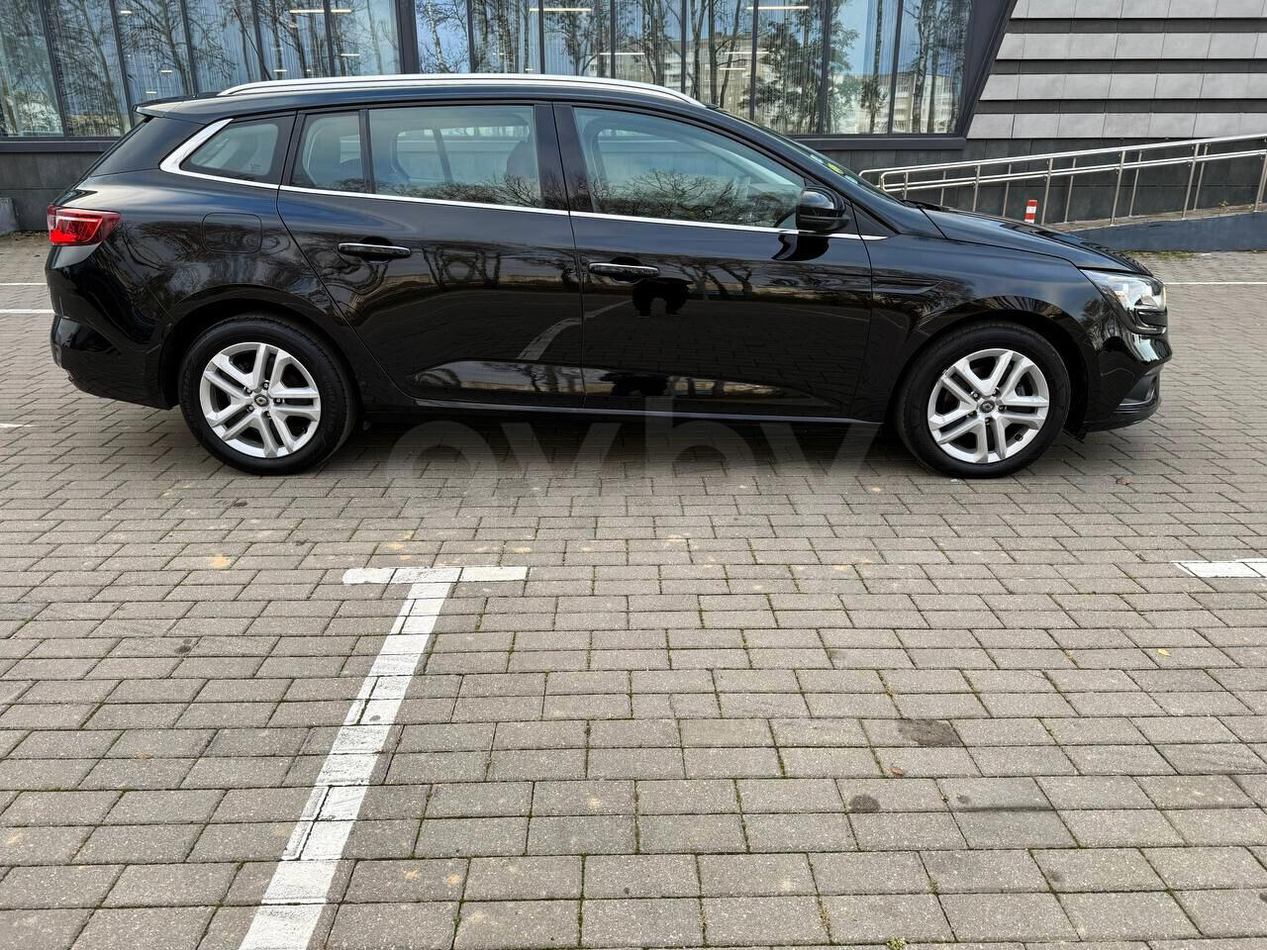Megane_2016-2020: (38, 69, 1173, 485)
